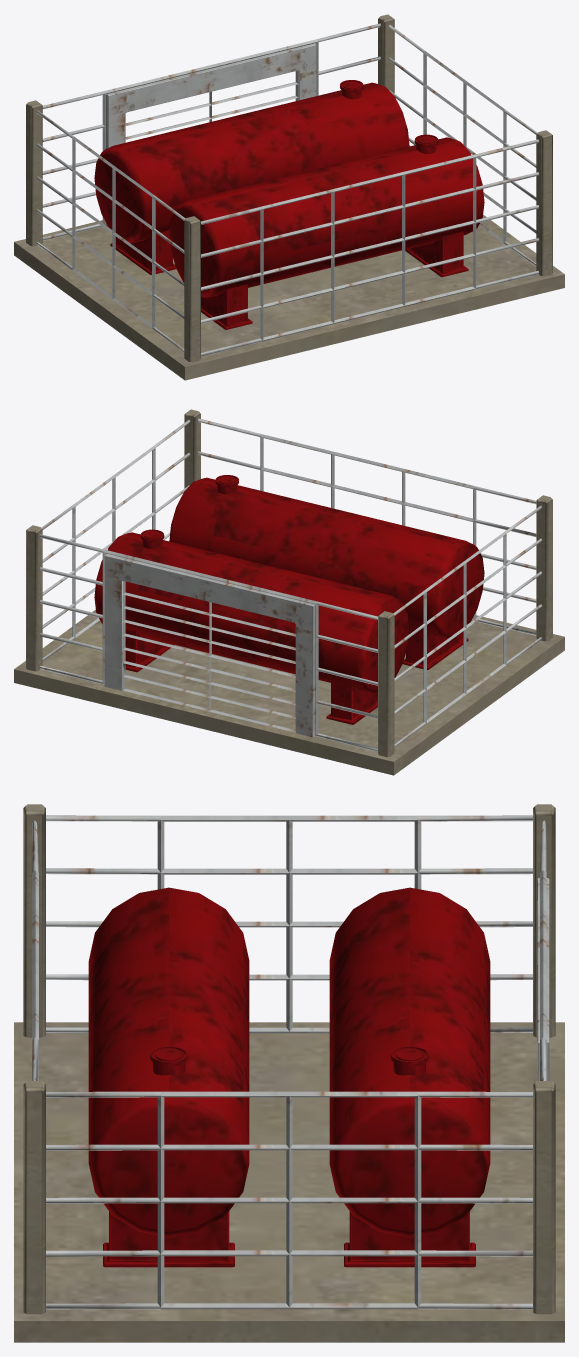
Rendered from mil_tank.glb.
3 renders of one model, top to bottom at view 1: azimuth 30°, elevation 25°; view 2: azimuth 150°, elevation 25°; view 3: azimuth 270°, elevation 25°, orthographic. The views are drawn at different scales.
Parts seen in each view (by area): view 1: mil_tank; view 2: mil_tank; view 3: mil_tank.
Boxes of the visible parts, x1,y1,x2,y2 form: mil_tank: (14, 14, 564, 380); mil_tank: (14, 409, 564, 775); mil_tank: (14, 804, 564, 1342).
Bounding box in the file's own units: 8.8 × 3.4 × 6.86.
1 material, 1 textured.
